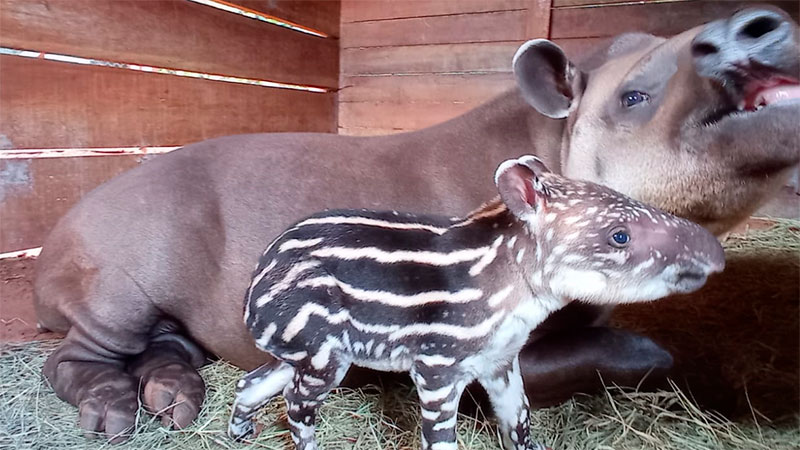Anta: (26, 5, 796, 445), (231, 152, 730, 443)
